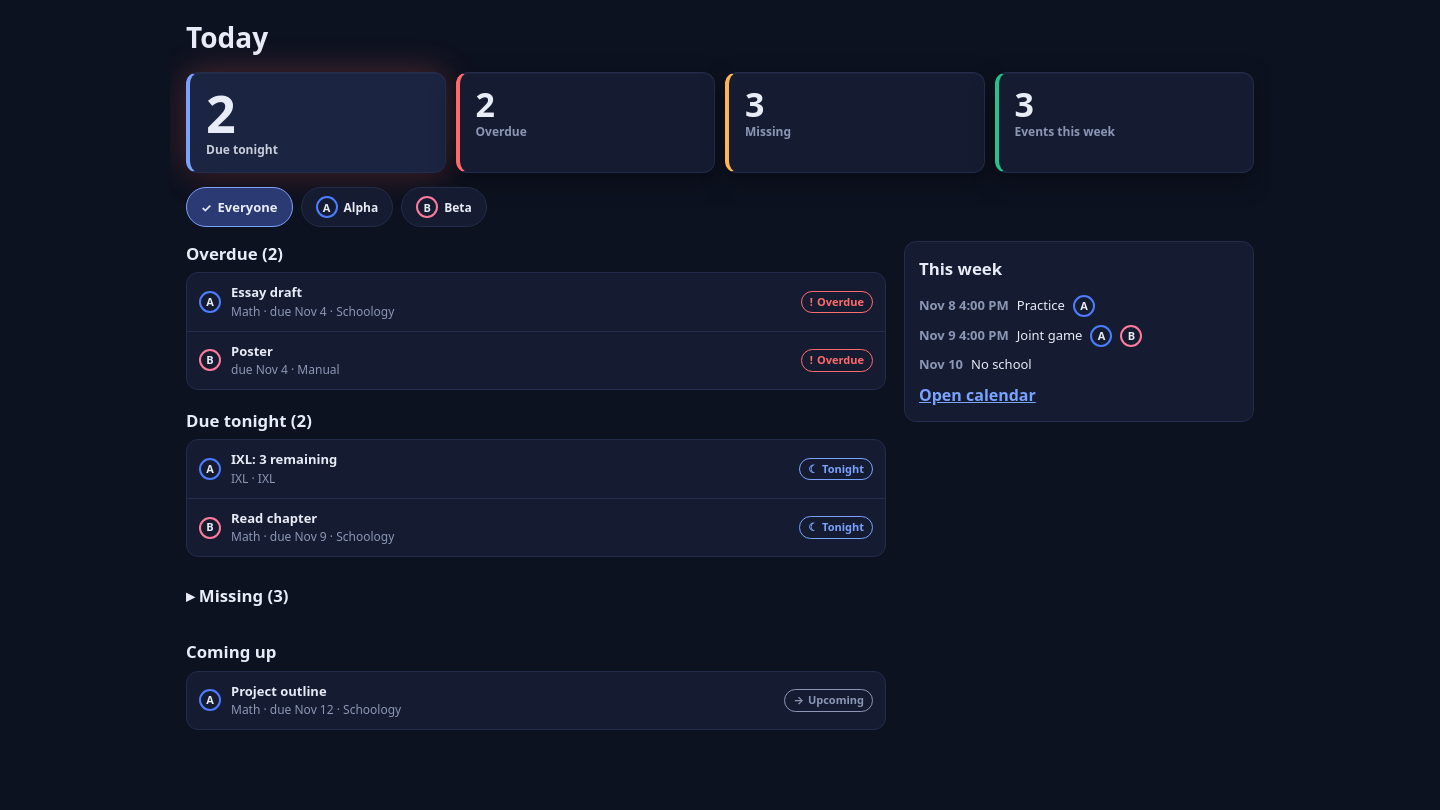
Test: missing is collapsed by default and expands
This screenshot has width=1440, height=810.
Expected: the heading "Today" is shown, [186,18,268,56]
Expected: the element named "filter by child" is shown, [186,187,487,227]
Step 1. Click the button "▸ Missing (3)" → (237, 595), box [186,575,289,615]
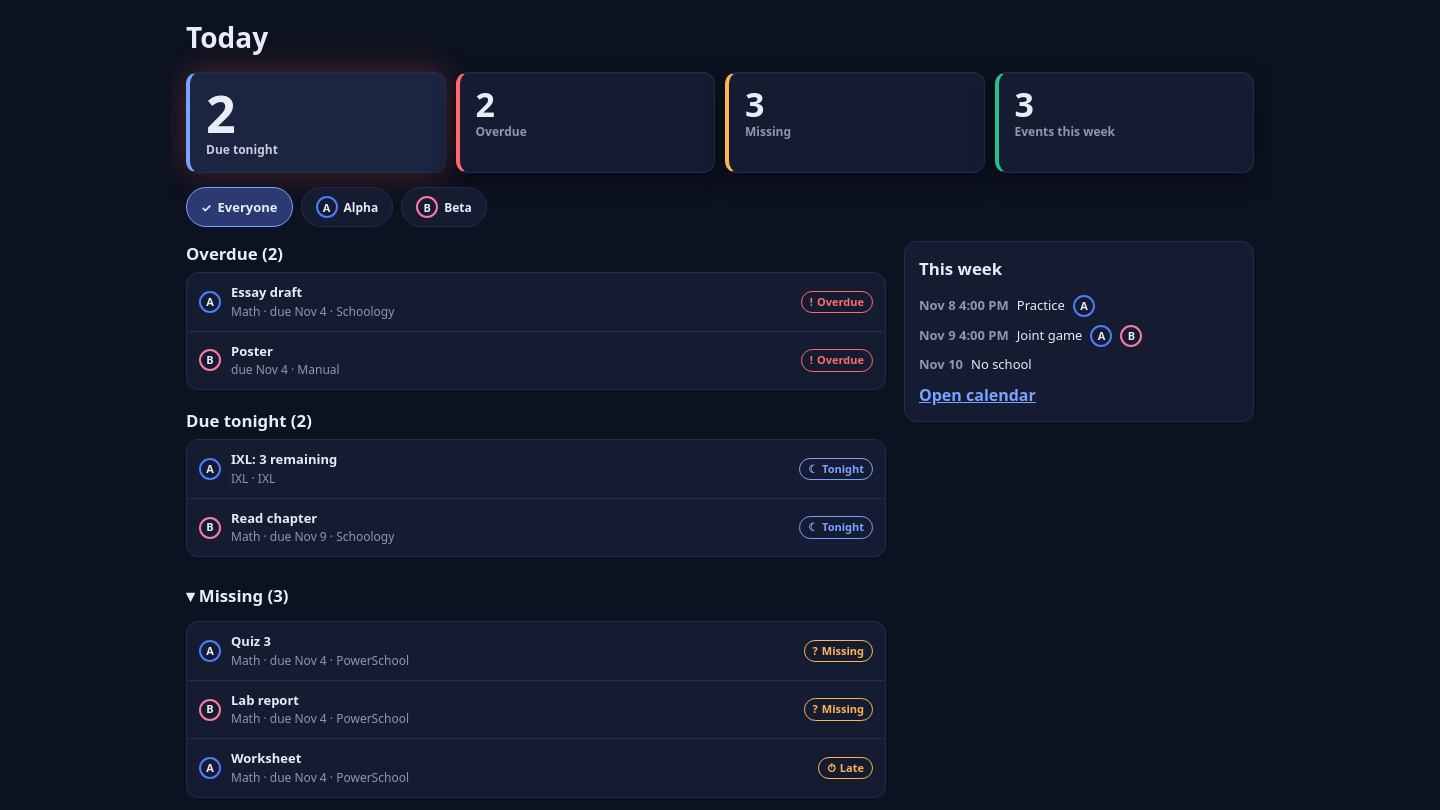
Now the button "▾ Missing (3)" is expanded, box [186,575,289,615]
Now the text "Quiz 3" is shown, box [231,632,271,650]
Now the text "late" is shown, box [840,760,864,775]
